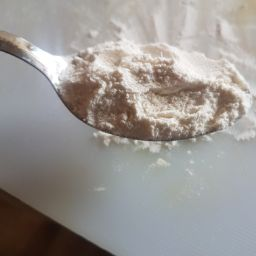Plain flour: (60, 17, 256, 178), (67, 49, 237, 123)
